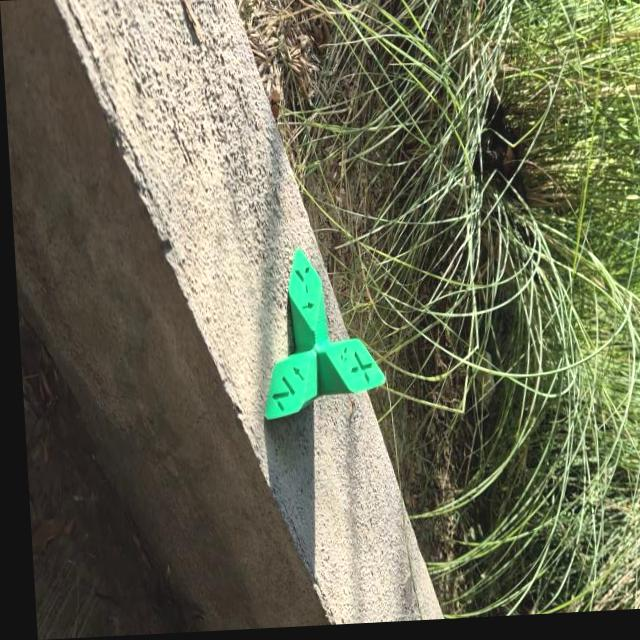eje: (252, 240, 389, 421)
